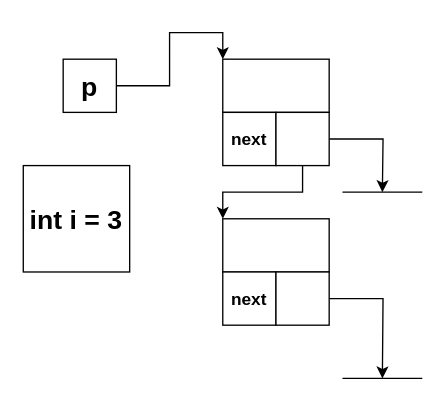
The diagram is 447 pixels wide and 412 high, and some of its shapes have lost their labels. Each missing label, with the centre of its shape:
"'c'" goes at point 275,85.
"'e'" goes at point 275,244.
